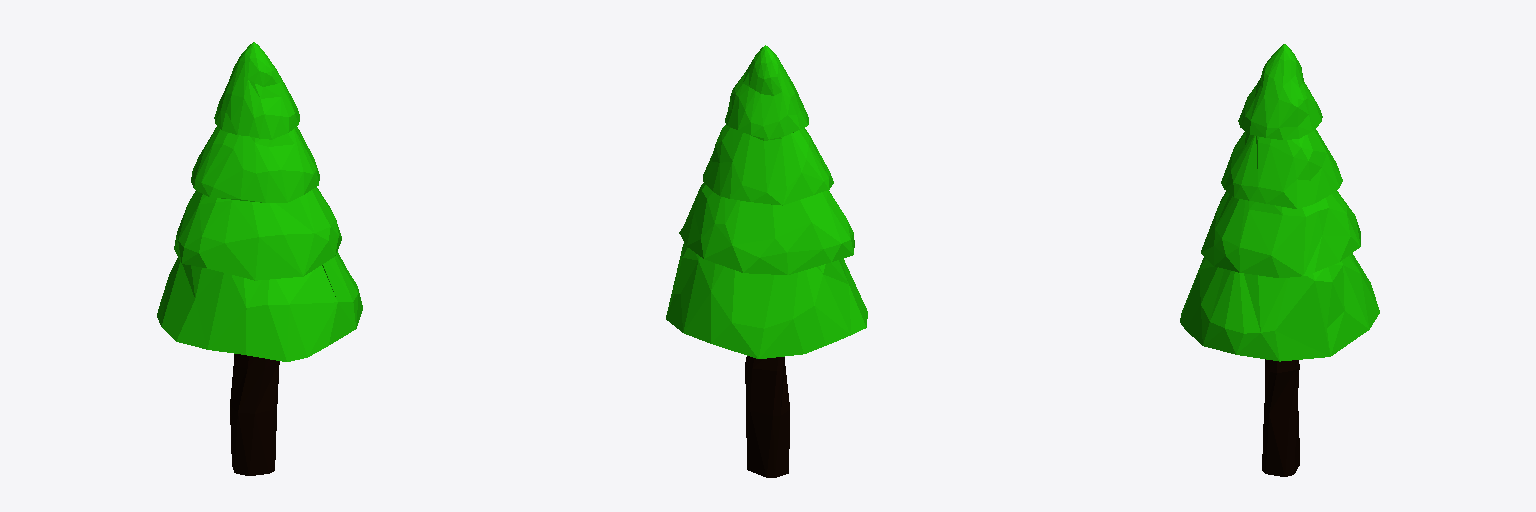
File: Pine1.obj
The picture shows the model from 3 angles: view 1: azimuth 30°, elevation 25°; view 2: azimuth 150°, elevation 25°; view 3: azimuth 270°, elevation 25°; orthographic projection.
Visible parts, largest first — view 1: Cube.004_Cube.006; view 2: Cube.004_Cube.006; view 3: Cube.004_Cube.006.
Part boxes in pixels (x1,y1,x2,y2): Cube.004_Cube.006: (157, 42, 362, 475); Cube.004_Cube.006: (666, 45, 867, 477); Cube.004_Cube.006: (1180, 44, 1379, 476).
Bounding box in the file's own units: 7.28 × 16.55 × 7.09.